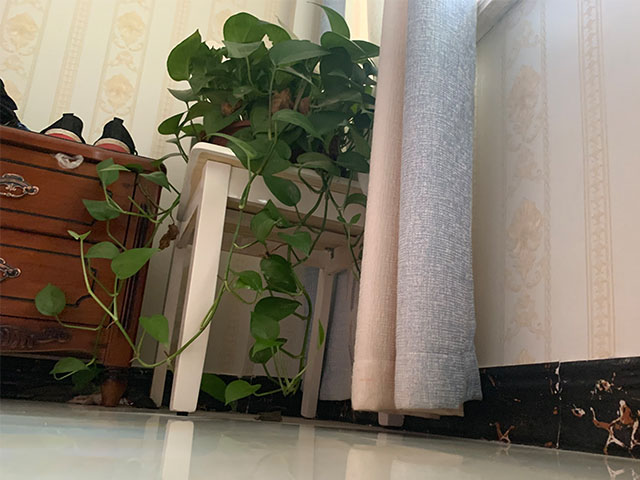cabinet: (1, 126, 168, 409)
curtain: (296, 1, 485, 422)
stool: (147, 139, 404, 432)
